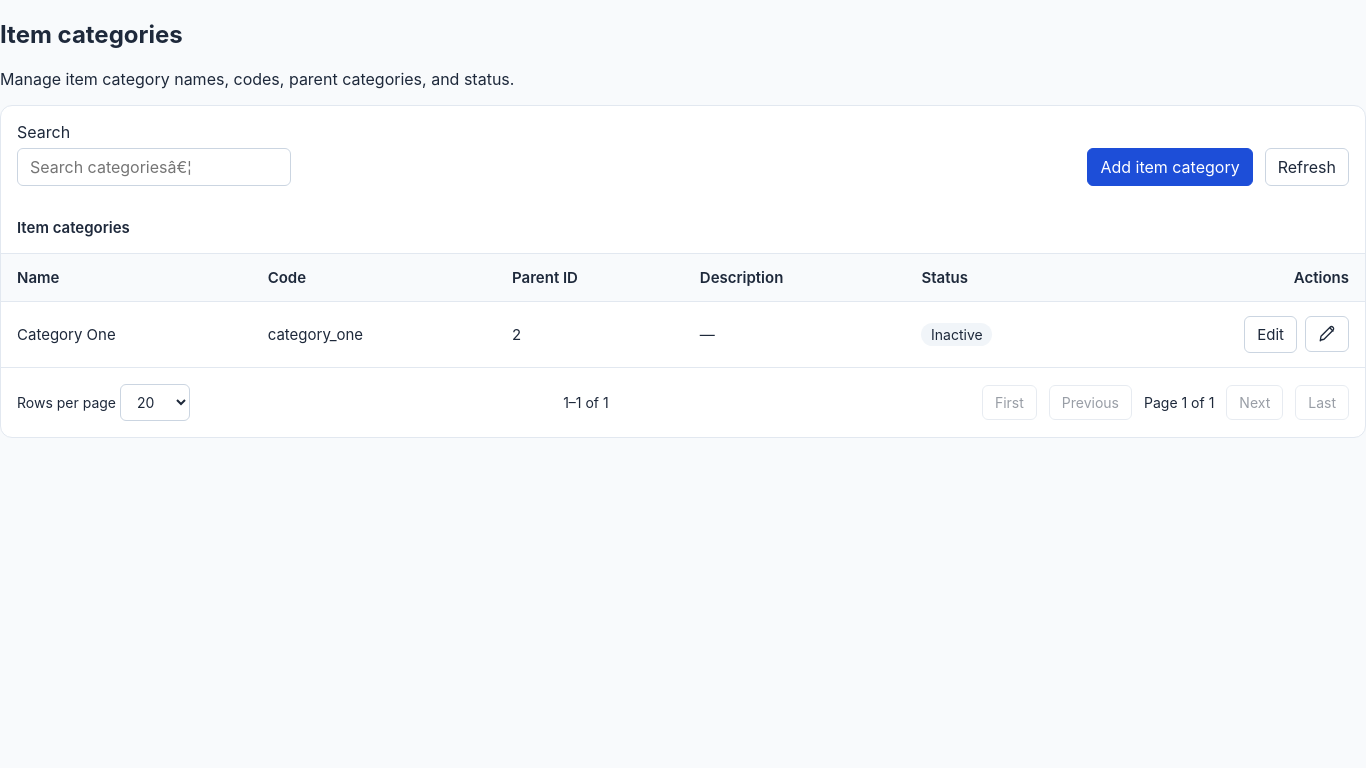
Test: item categories › updates the selected category status to true from the pencil action
Click the button named "Update status for Category One" at coordinates (1327, 334), box [1305,316,1349,352]
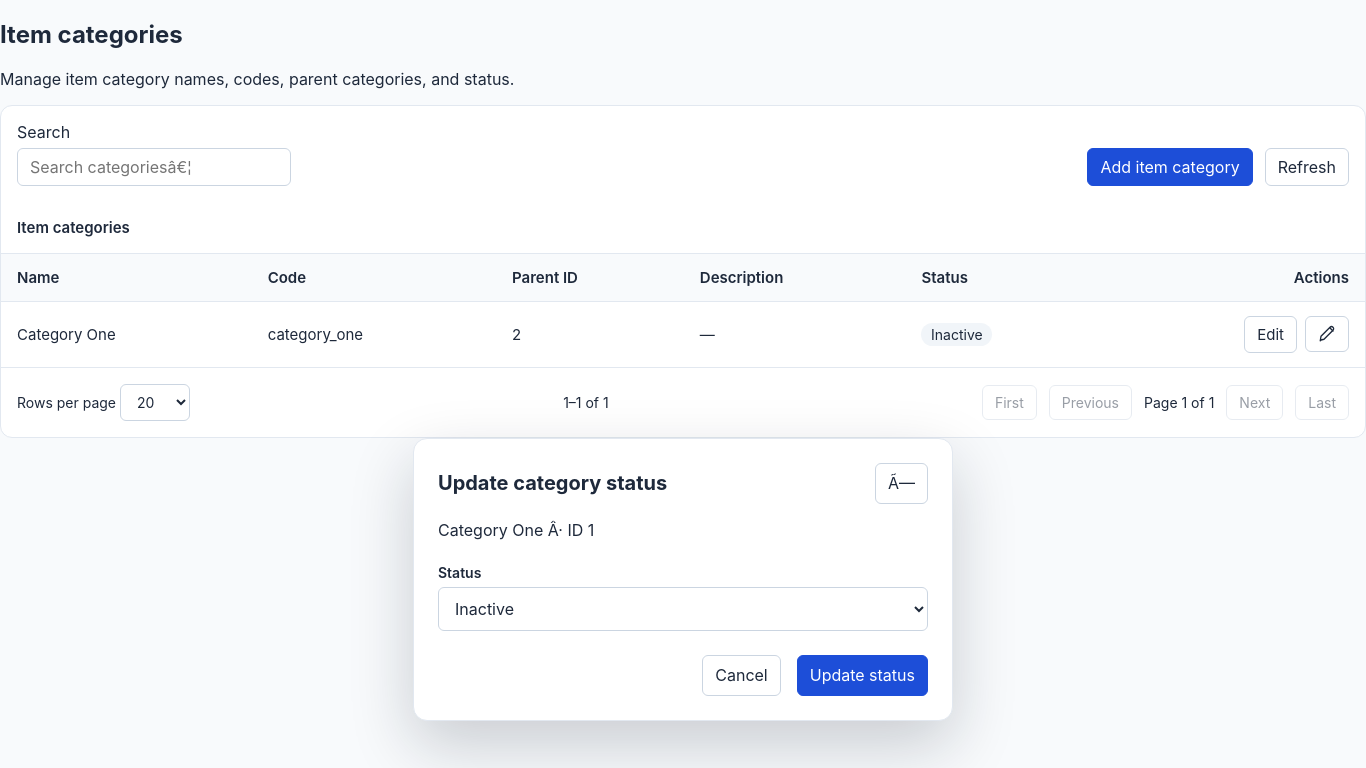
Check: the dialog shows "ID 1", box [438,520,594,540]
Select "Active" in the dropdown named "is_active" at coordinates (683, 609), box [438,587,928,631]
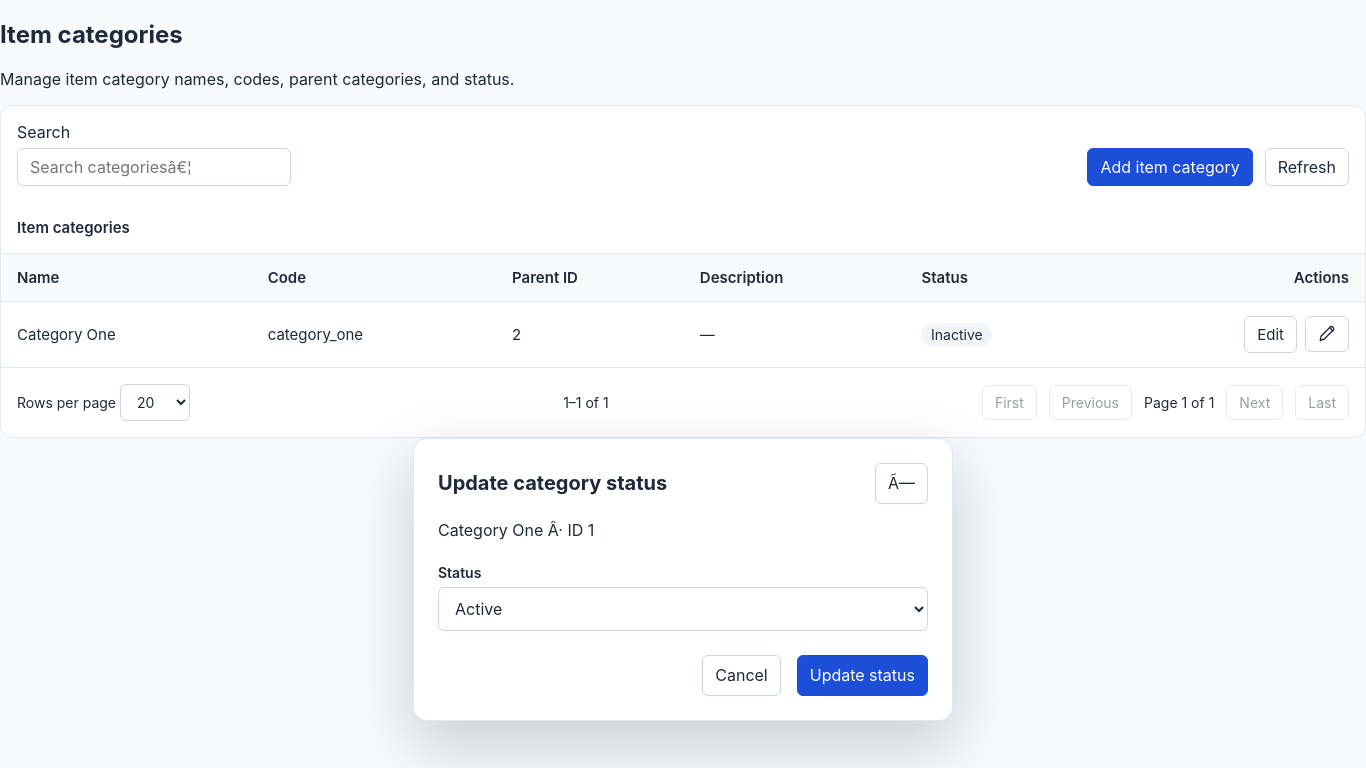
Submit the form, box [438,463,928,696]
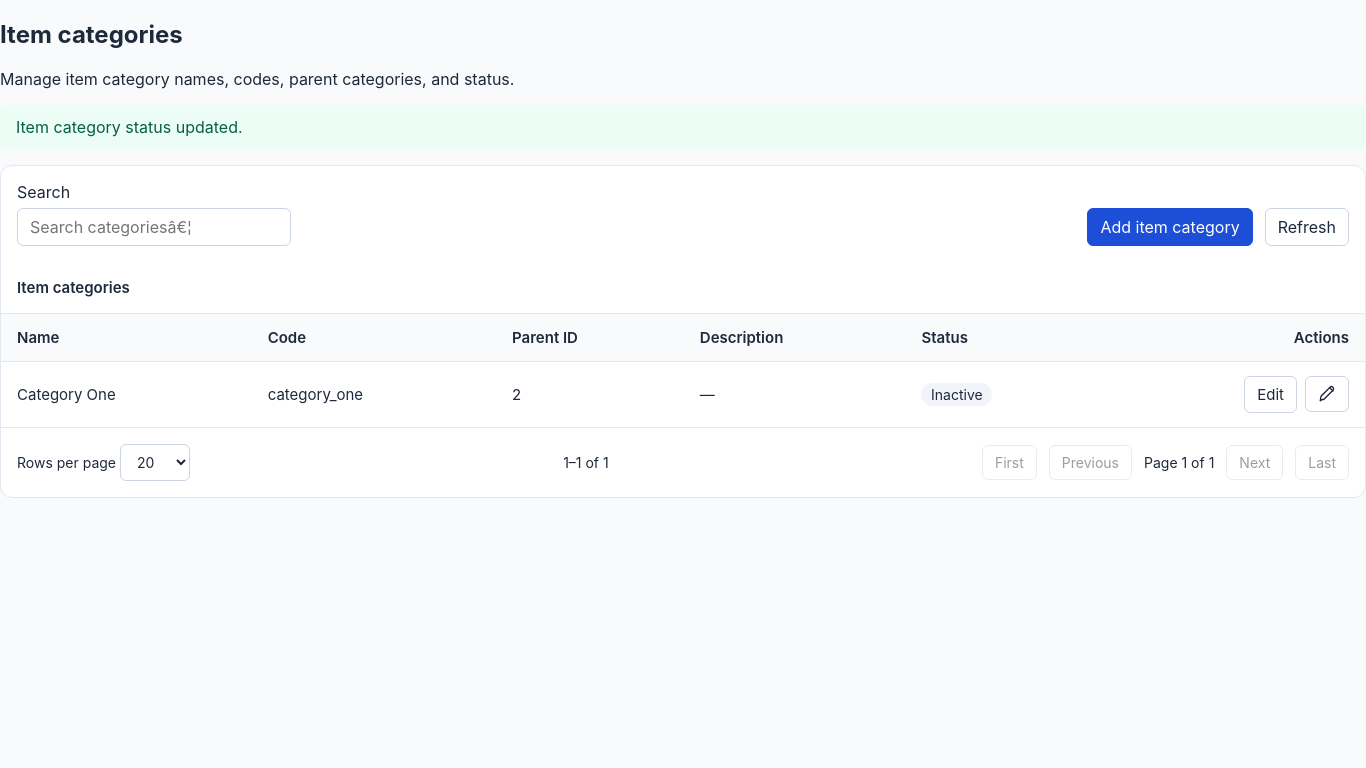
Check: the text "Item category status updated." is shown, box [0,105,1365,149]
